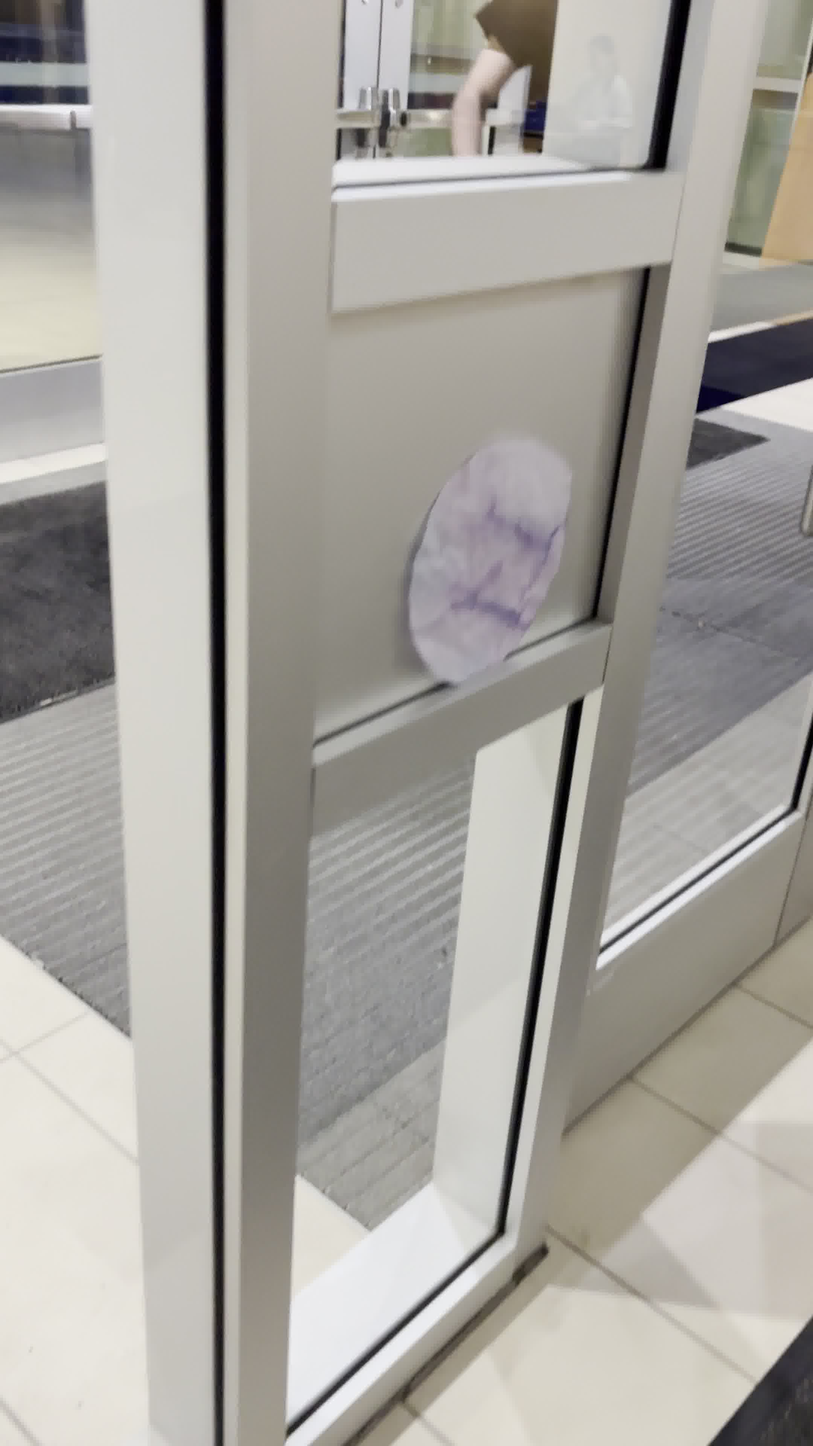Target: (402, 430, 578, 690)
